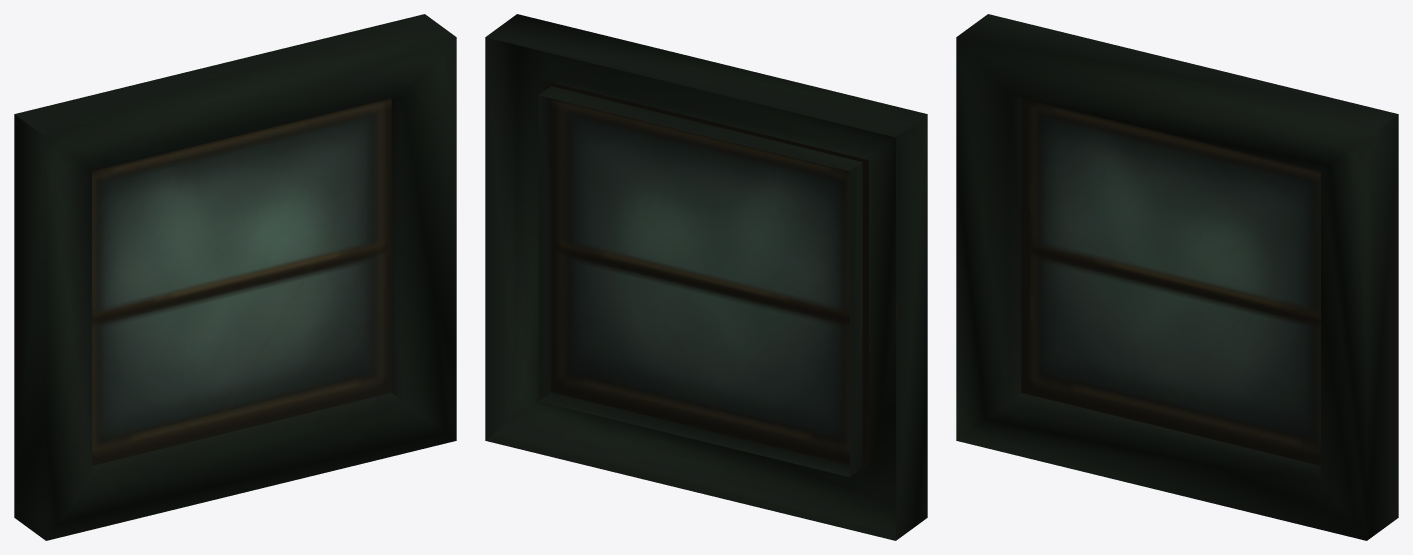
Rendered from CabooseWindow.fbx.
The picture shows the model from 3 angles, left to right: view 1: azimuth 30°, elevation 25°; view 2: azimuth 150°, elevation 25°; view 3: azimuth 330°, elevation 25°; orthographic projection.
Visible parts, largest first — view 1: CabooseWindow2, CabooseWindowFrame2; view 2: CabooseWindow2, CabooseWindowFrame2; view 3: CabooseWindow2, CabooseWindowFrame2.
Boxes of the visible parts, x1,y1,x2,y2 form: CabooseWindow2: [14, 14, 456, 540]; CabooseWindowFrame2: [92, 98, 391, 465]; CabooseWindow2: [485, 14, 927, 540]; CabooseWindowFrame2: [543, 81, 868, 469]; CabooseWindow2: [956, 14, 1398, 540]; CabooseWindowFrame2: [1021, 98, 1320, 465].
Bounding box in the file's own units: 11.17 × 10.49 × 1.5.
